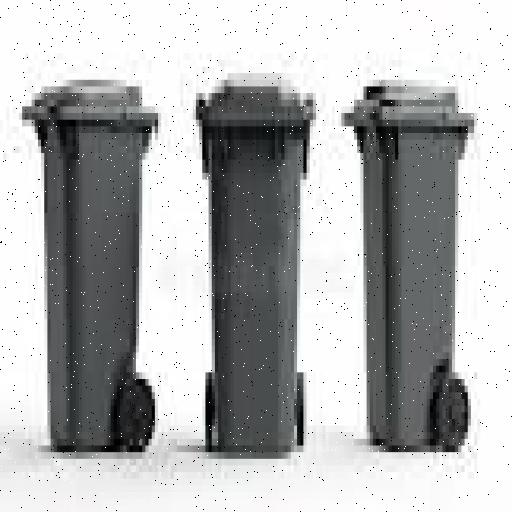poubelle_vide: (14, 63, 174, 462), (334, 59, 490, 459), (180, 63, 324, 475)
